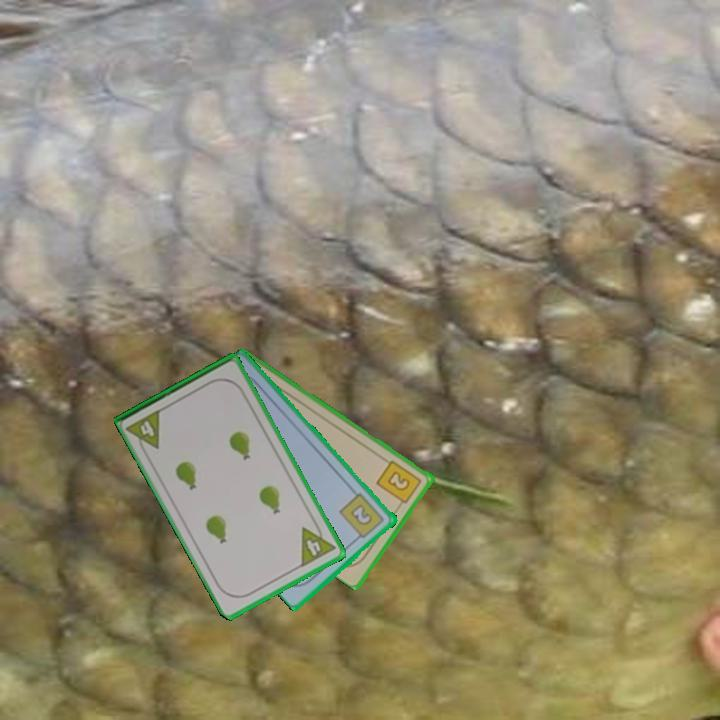2b: (373, 457, 425, 510), (336, 490, 387, 544)
4p: (297, 517, 338, 570), (124, 405, 164, 457)
